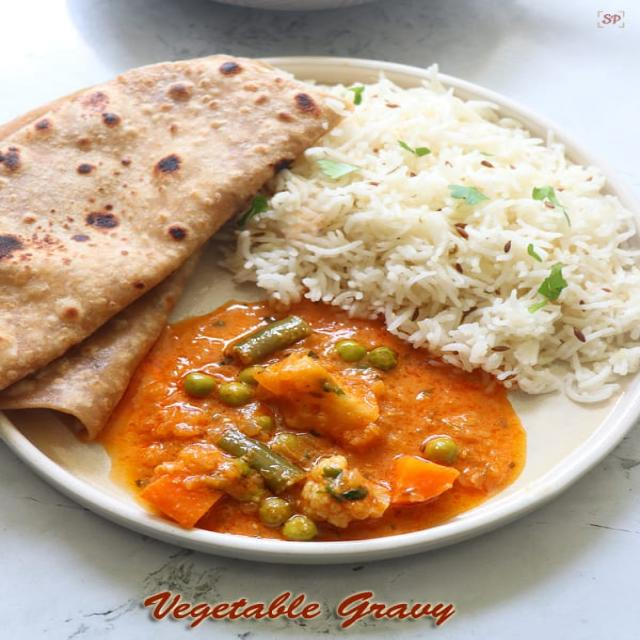chapathi: (0, 54, 333, 438)
